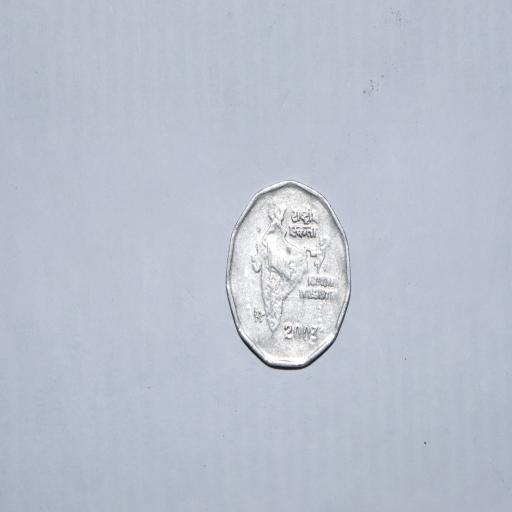rupee2: (225, 181, 352, 368)
